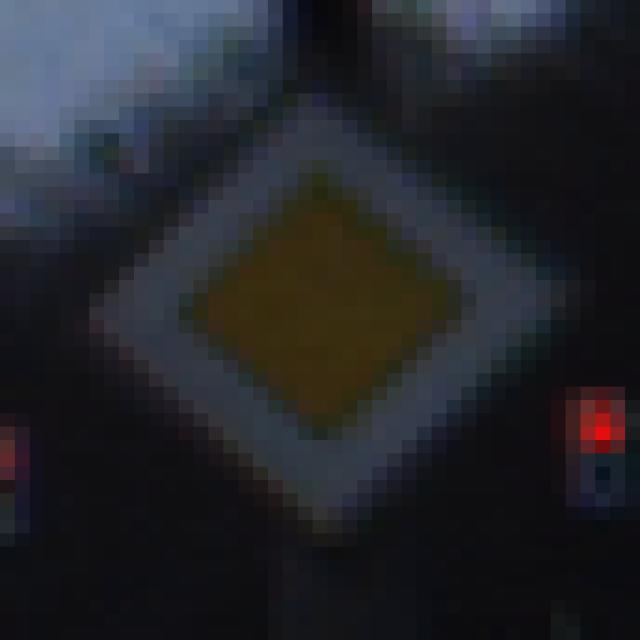Main Road: (76, 81, 567, 574)
